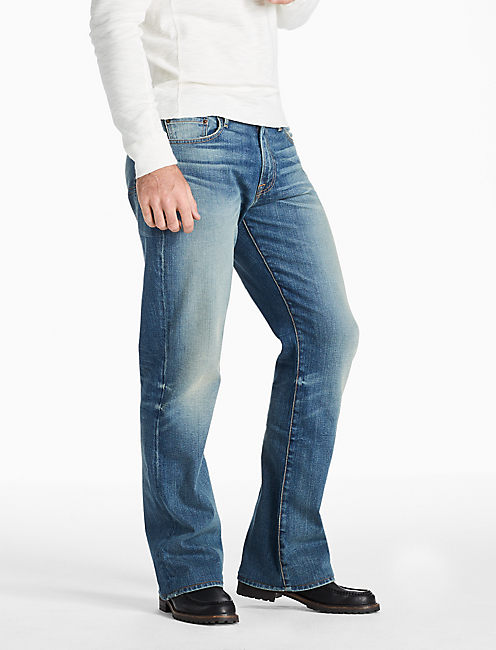Jeans: (120, 116, 363, 595)
